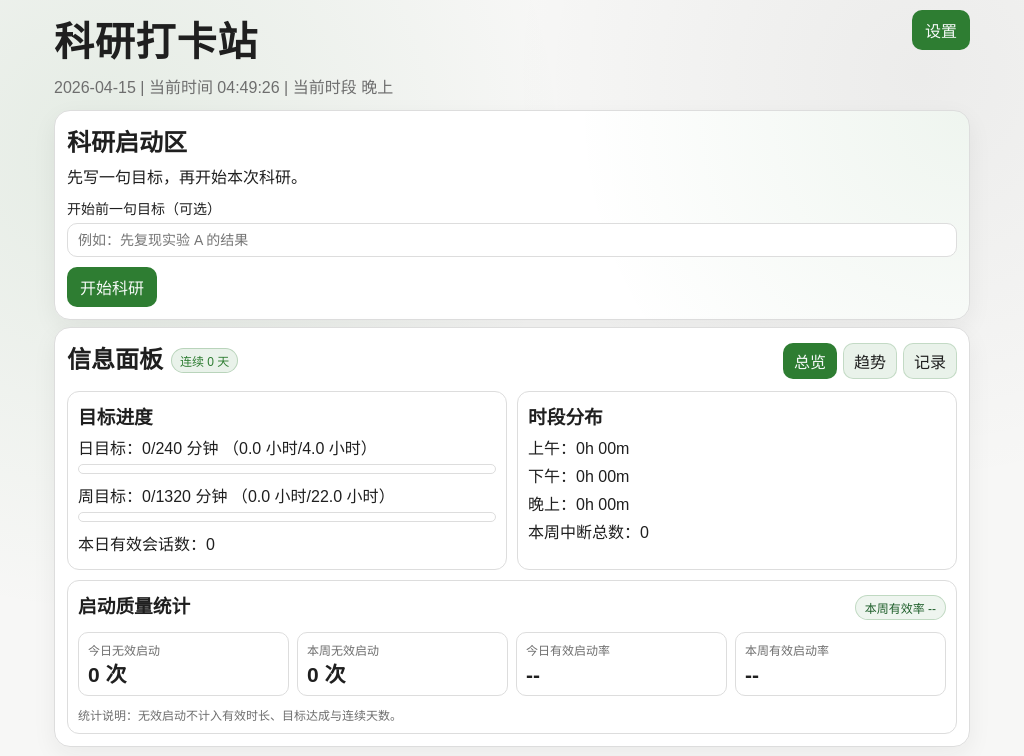
Test: App integration › shows efficiency mini-card expanded by default when rated sessions exist
This screenshot has width=1024, height=756.
Expected: the heading "科研启动区" is shown, left=67, top=129, right=187, bottom=156
Step 1. Type "效率测试" into the field with placeholder "例如：先复现实验 A 的结果" → (512, 240), box left=67, top=223, right=957, bottom=257
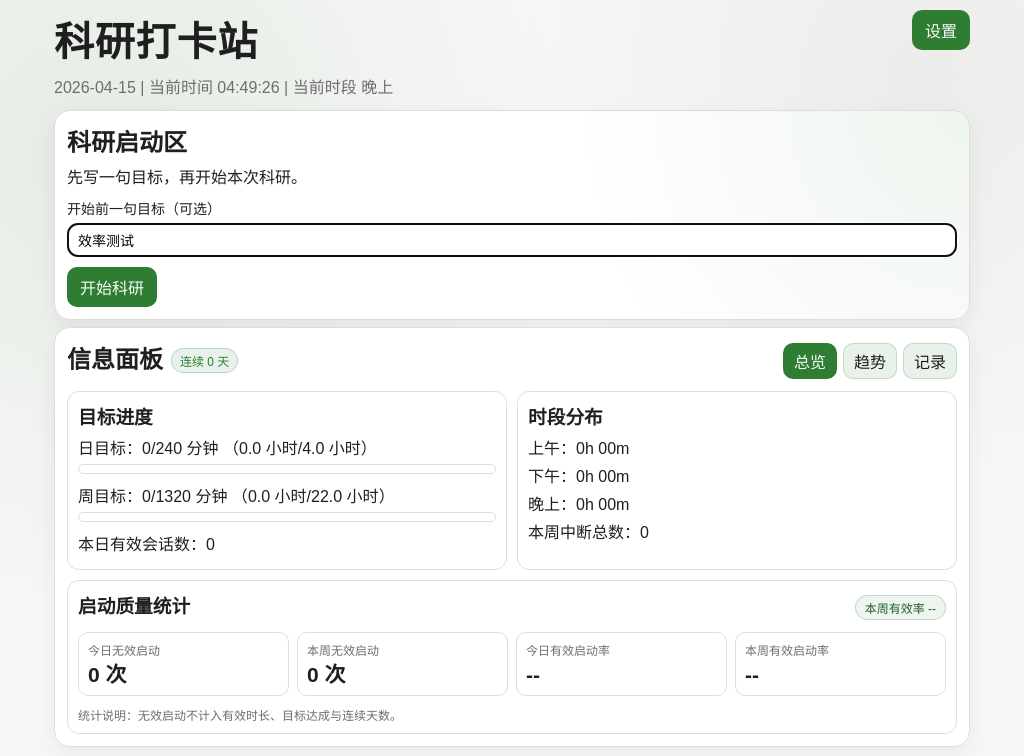
Step 2. Click the button "开始科研" → (112, 287), box left=67, top=267, right=157, bottom=307
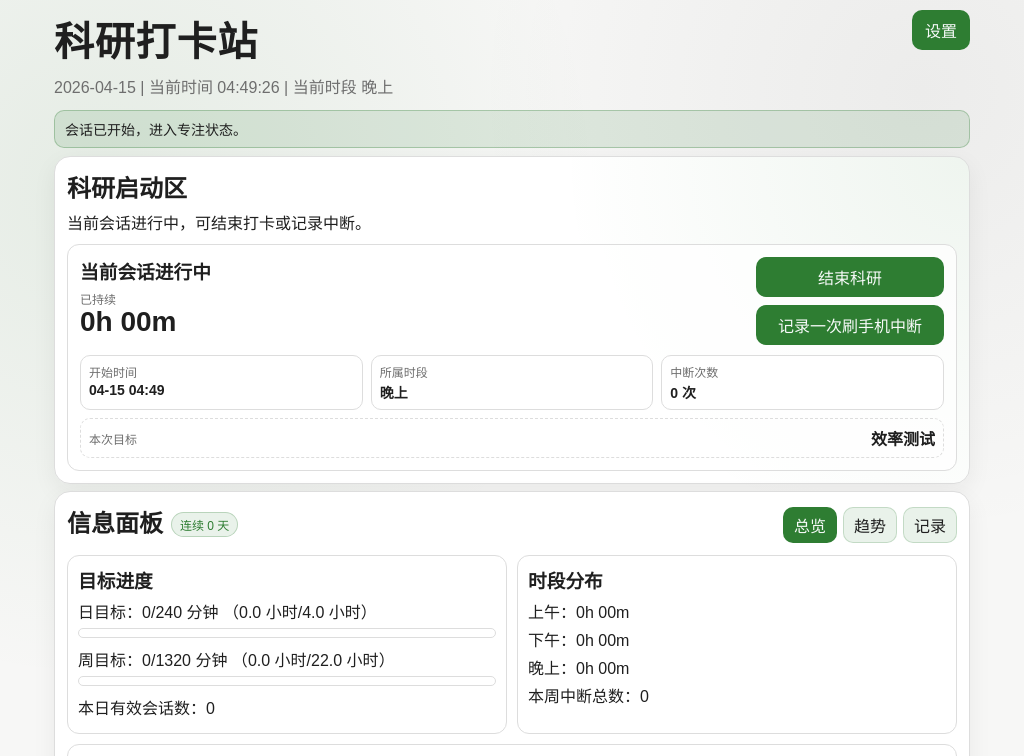
Result: the heading "当前会话进行中" is shown at left=80, top=257, right=211, bottom=284
Step 3. Click the button "结束科研" → (850, 277), box left=756, top=257, right=944, bottom=297
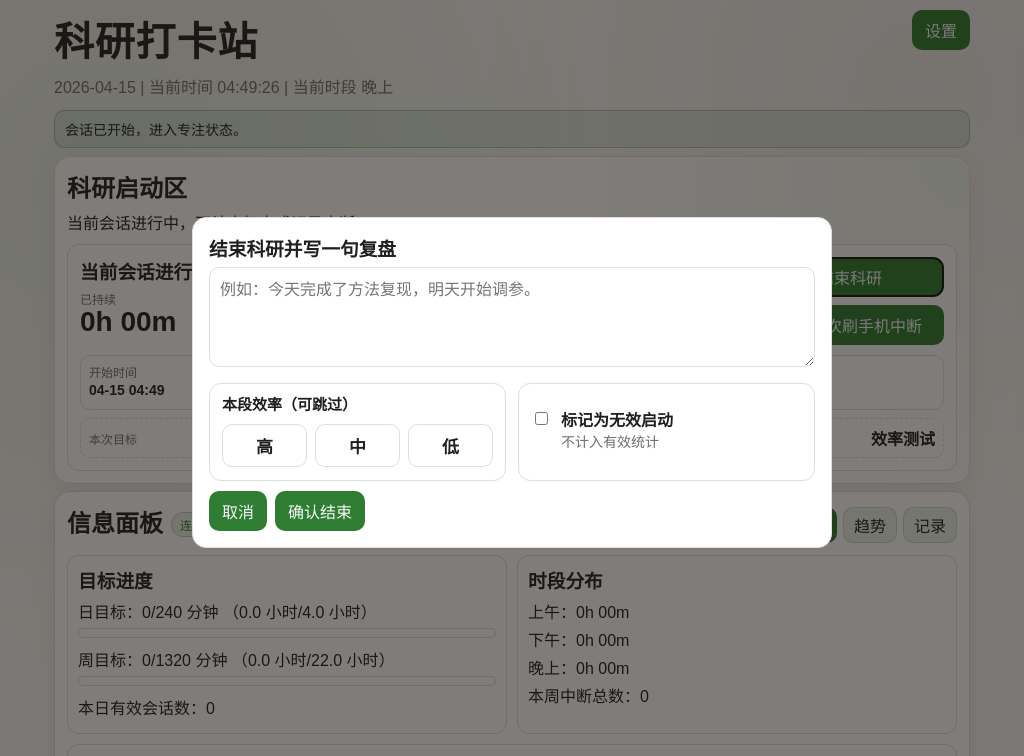
Result: the heading "结束科研并写一句复盘" is shown at left=209, top=238, right=396, bottom=260
Step 4. Click the radio button labelled "高" → (264, 445), box left=222, top=424, right=307, bottom=466
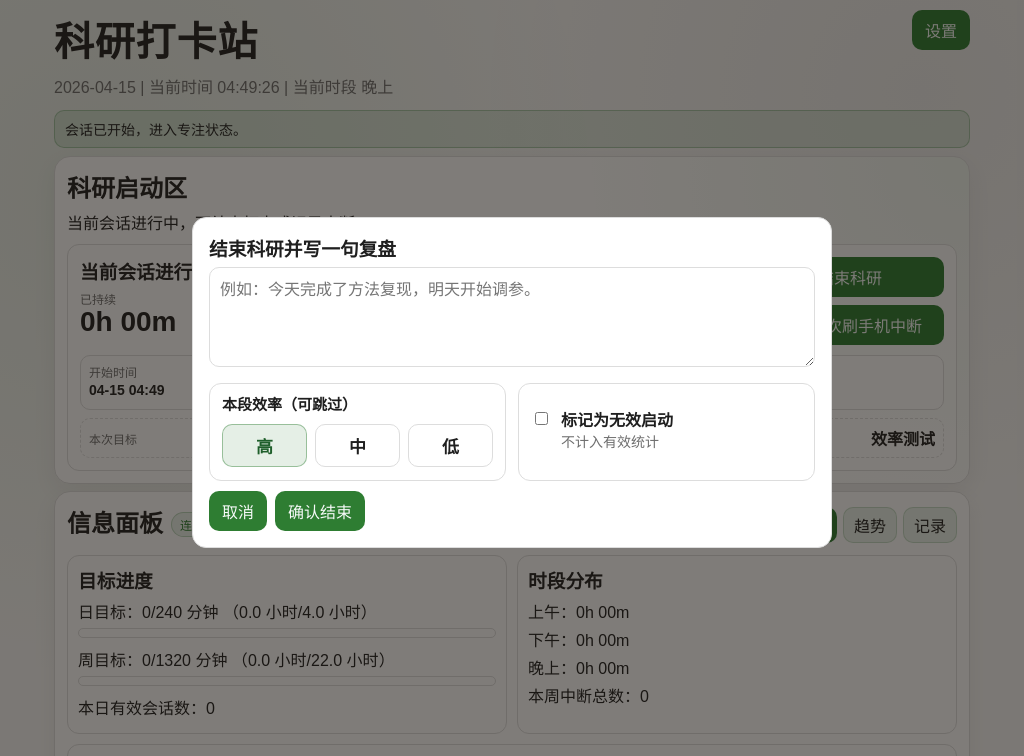
Step 5. Click the button "确认结束" → (320, 510), box left=275, top=490, right=365, bottom=530
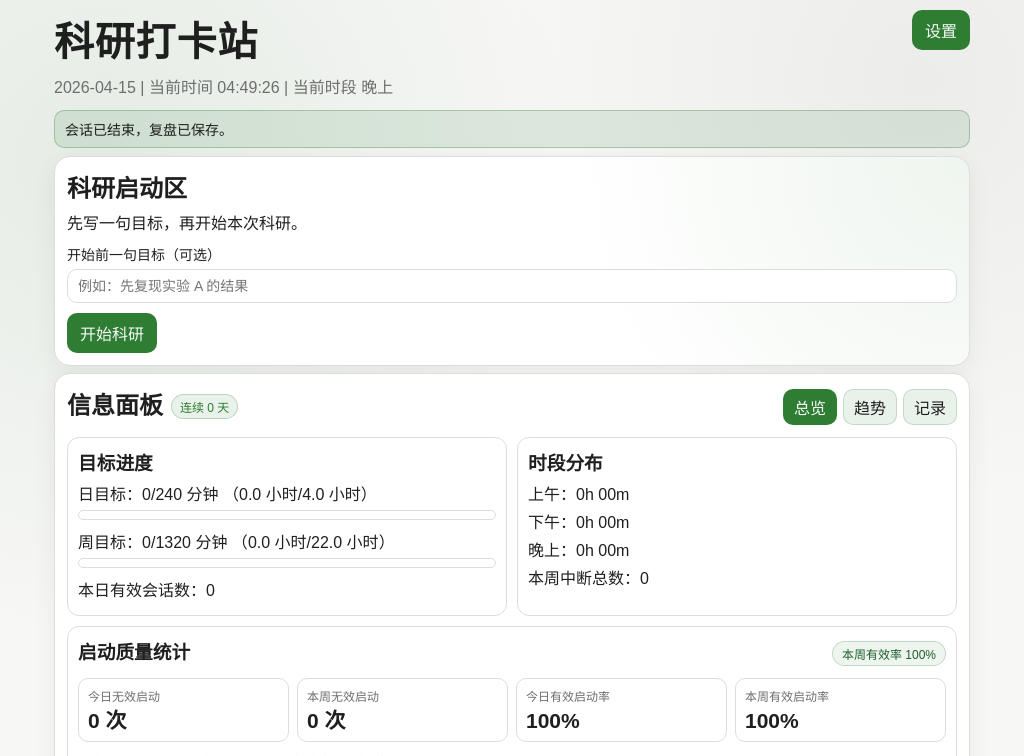
Result: the text "会话已结束，复盘已保存。" is shown at left=54, top=110, right=970, bottom=148
Step 6. Click the tab "趋势" → (870, 406), box left=843, top=388, right=897, bottom=424
(page scrolled)
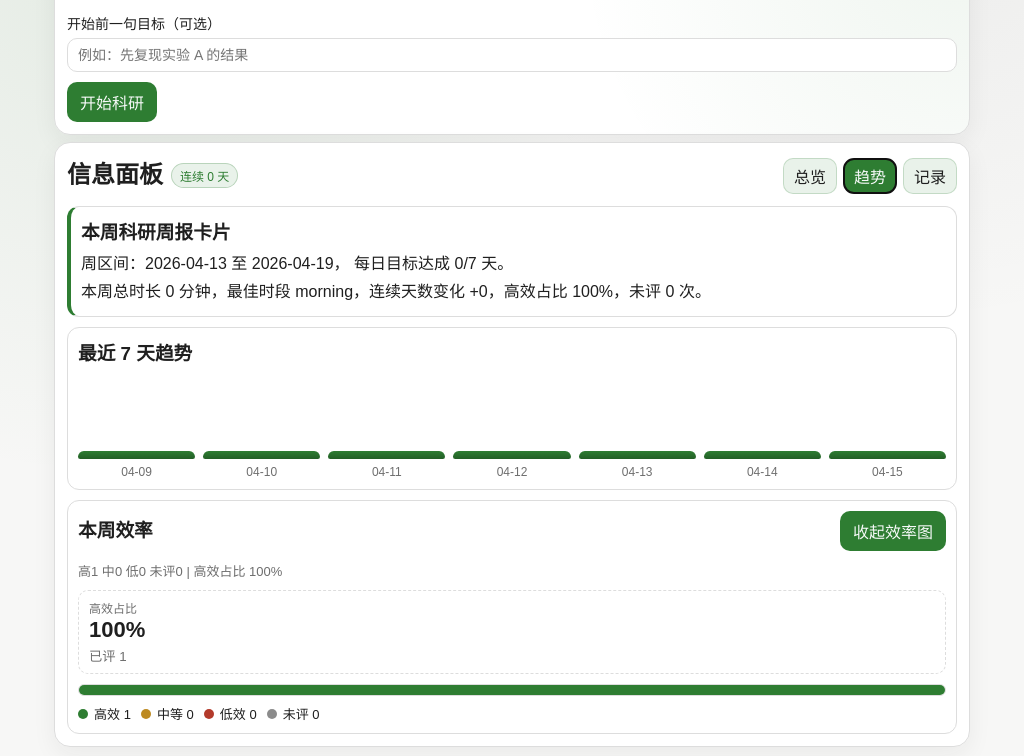
Result: the heading "本周效率" is shown at left=78, top=514, right=153, bottom=542
Result: the button "收起效率图" is shown at left=840, top=511, right=946, bottom=551
Result: the text "高效占比" is shown at left=89, top=602, right=137, bottom=616
